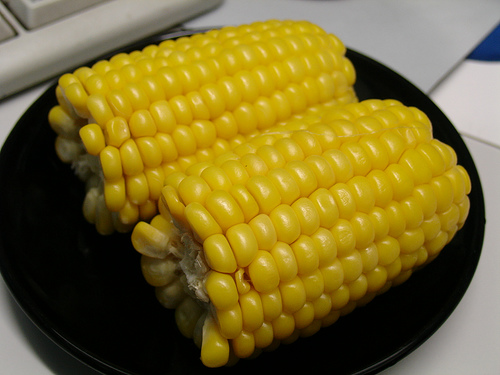corn: (132, 98, 472, 367), (49, 19, 358, 237)
